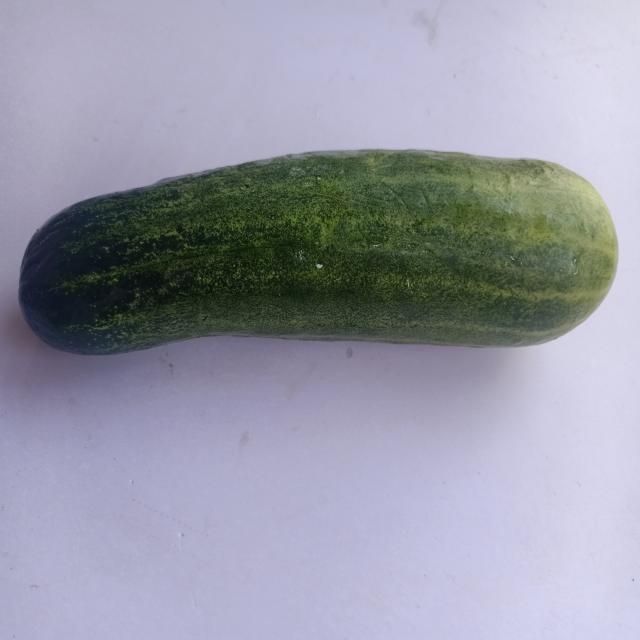Cucumber: (14, 135, 640, 413)
